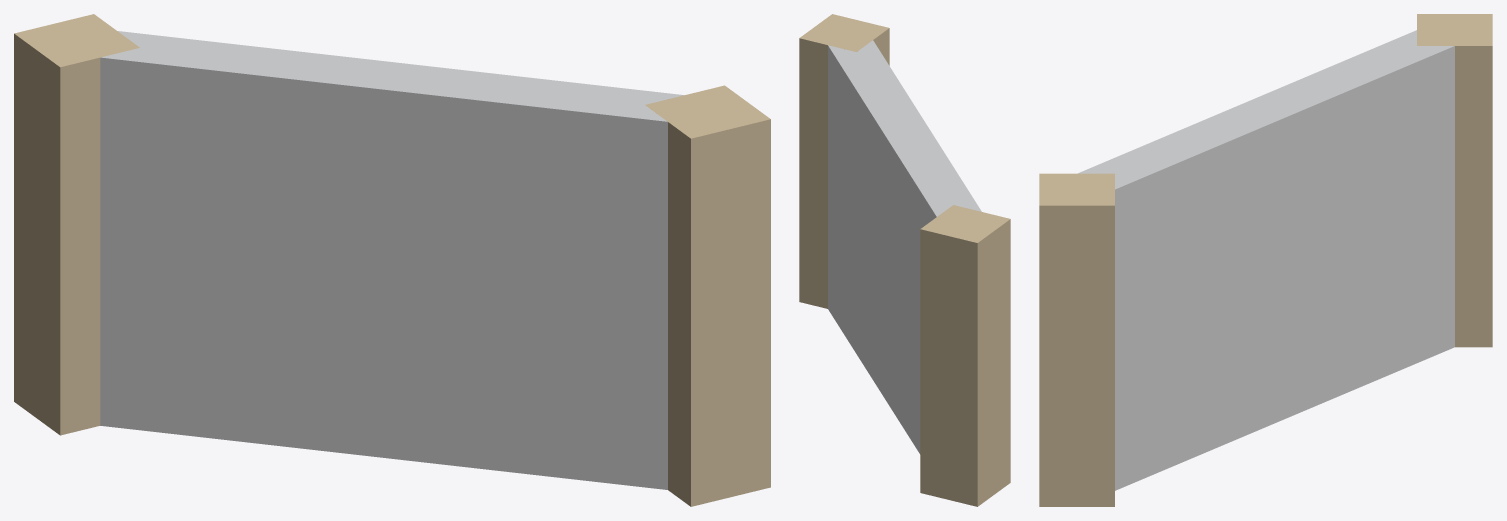
File: Wood_Corner_01.glb
The picture shows the model from 3 angles, left to right: view 1: azimuth 30°, elevation 25°; view 2: azimuth 150°, elevation 25°; view 3: azimuth 270°, elevation 25°; orthographic projection. The views are drawn at different scales.
Parts seen in each view (by area): view 1: Wood_Corner_01; view 2: Wood_Corner_01; view 3: Wood_Corner_01.
Part boxes in pixels (x1,y1,x2,y2): Wood_Corner_01: (14, 14, 770, 506); Wood_Corner_01: (799, 14, 1010, 506); Wood_Corner_01: (1039, 14, 1492, 506).
Size of the model in its own units: 3 by 2.2 by 3.
